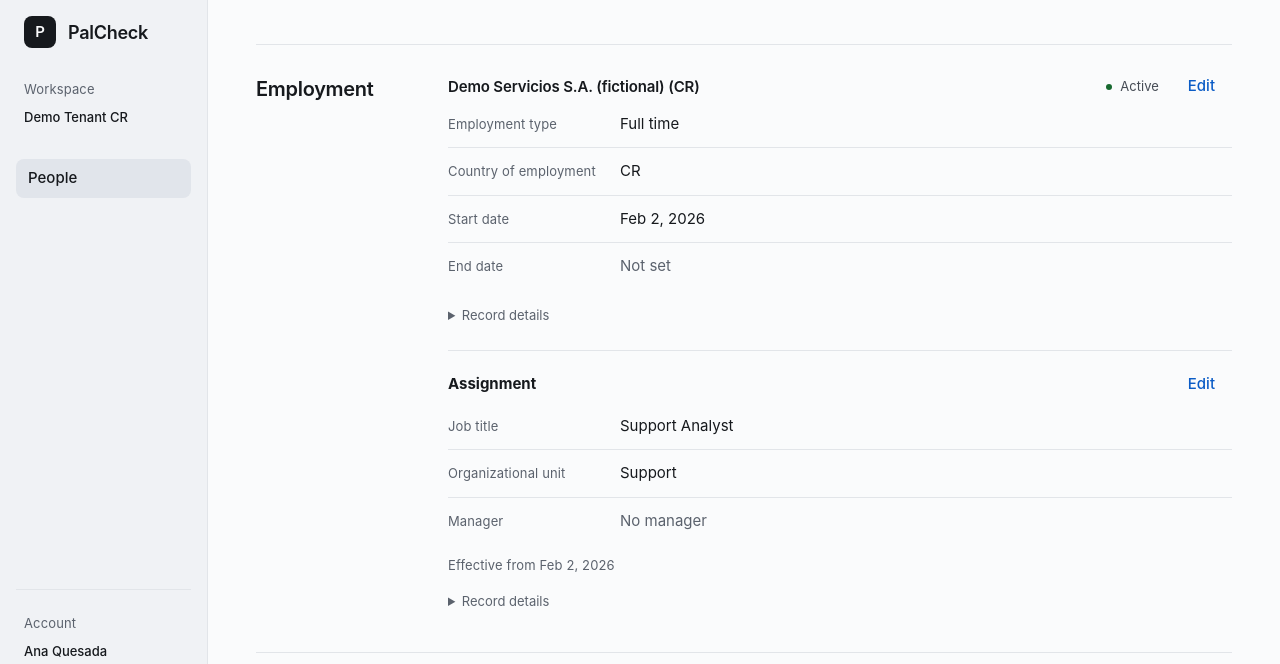
Scenario: Person detail › editing employment and assignment › edits the assignment with its own revision
This screenshot has width=1280, height=664.
(page scrolled)
Click the button with aria-label "Edit assignment" at (1201, 385), box top-left (1171, 367), bottom-right (1232, 403)
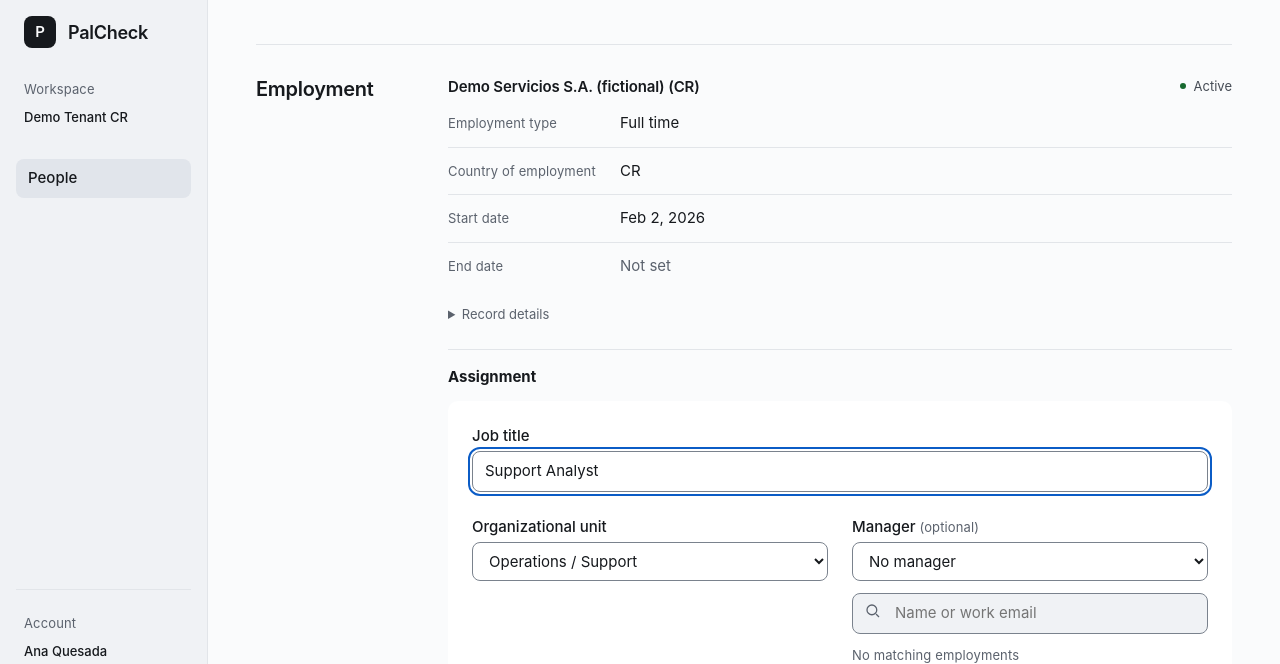
Replace the text in the field labelled "Job title" with "Senior Support Analyst" at (840, 471), box top-left (472, 451), bottom-right (1208, 492)
(page scrolled)
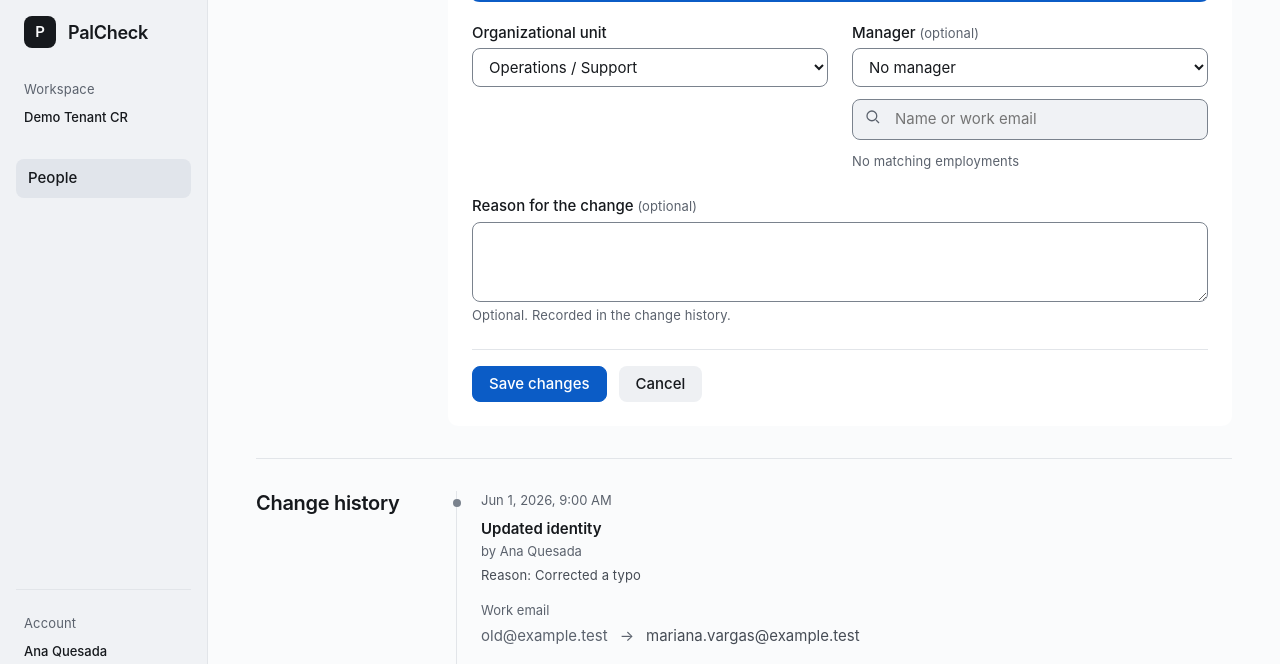
Click the button "Save changes" at (539, 384), box top-left (472, 366), bottom-right (606, 402)
(page scrolled)
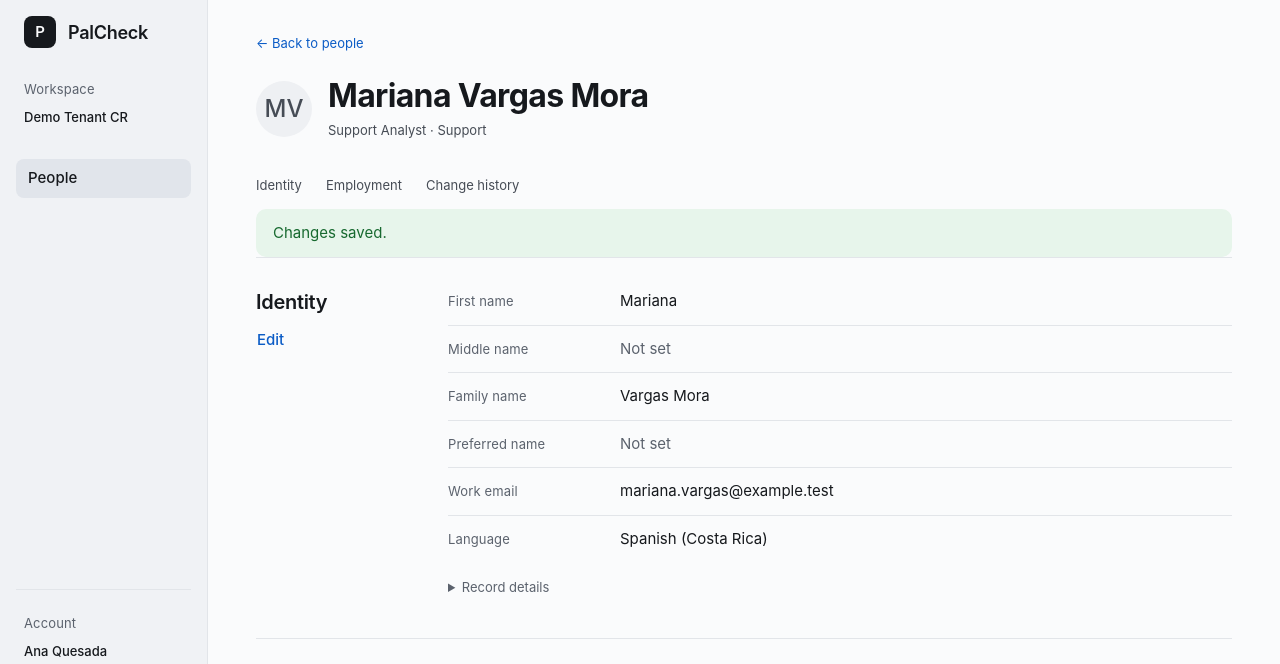
Expected: the text "Changes saved." is shown, top-left (256, 209), bottom-right (1232, 257)
